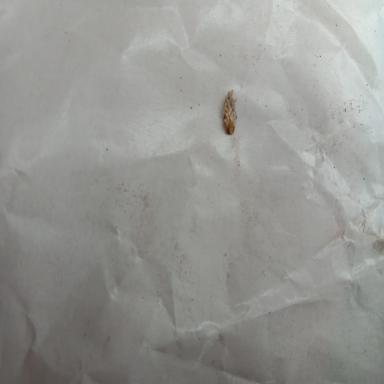pbw: (222, 89, 237, 135)
